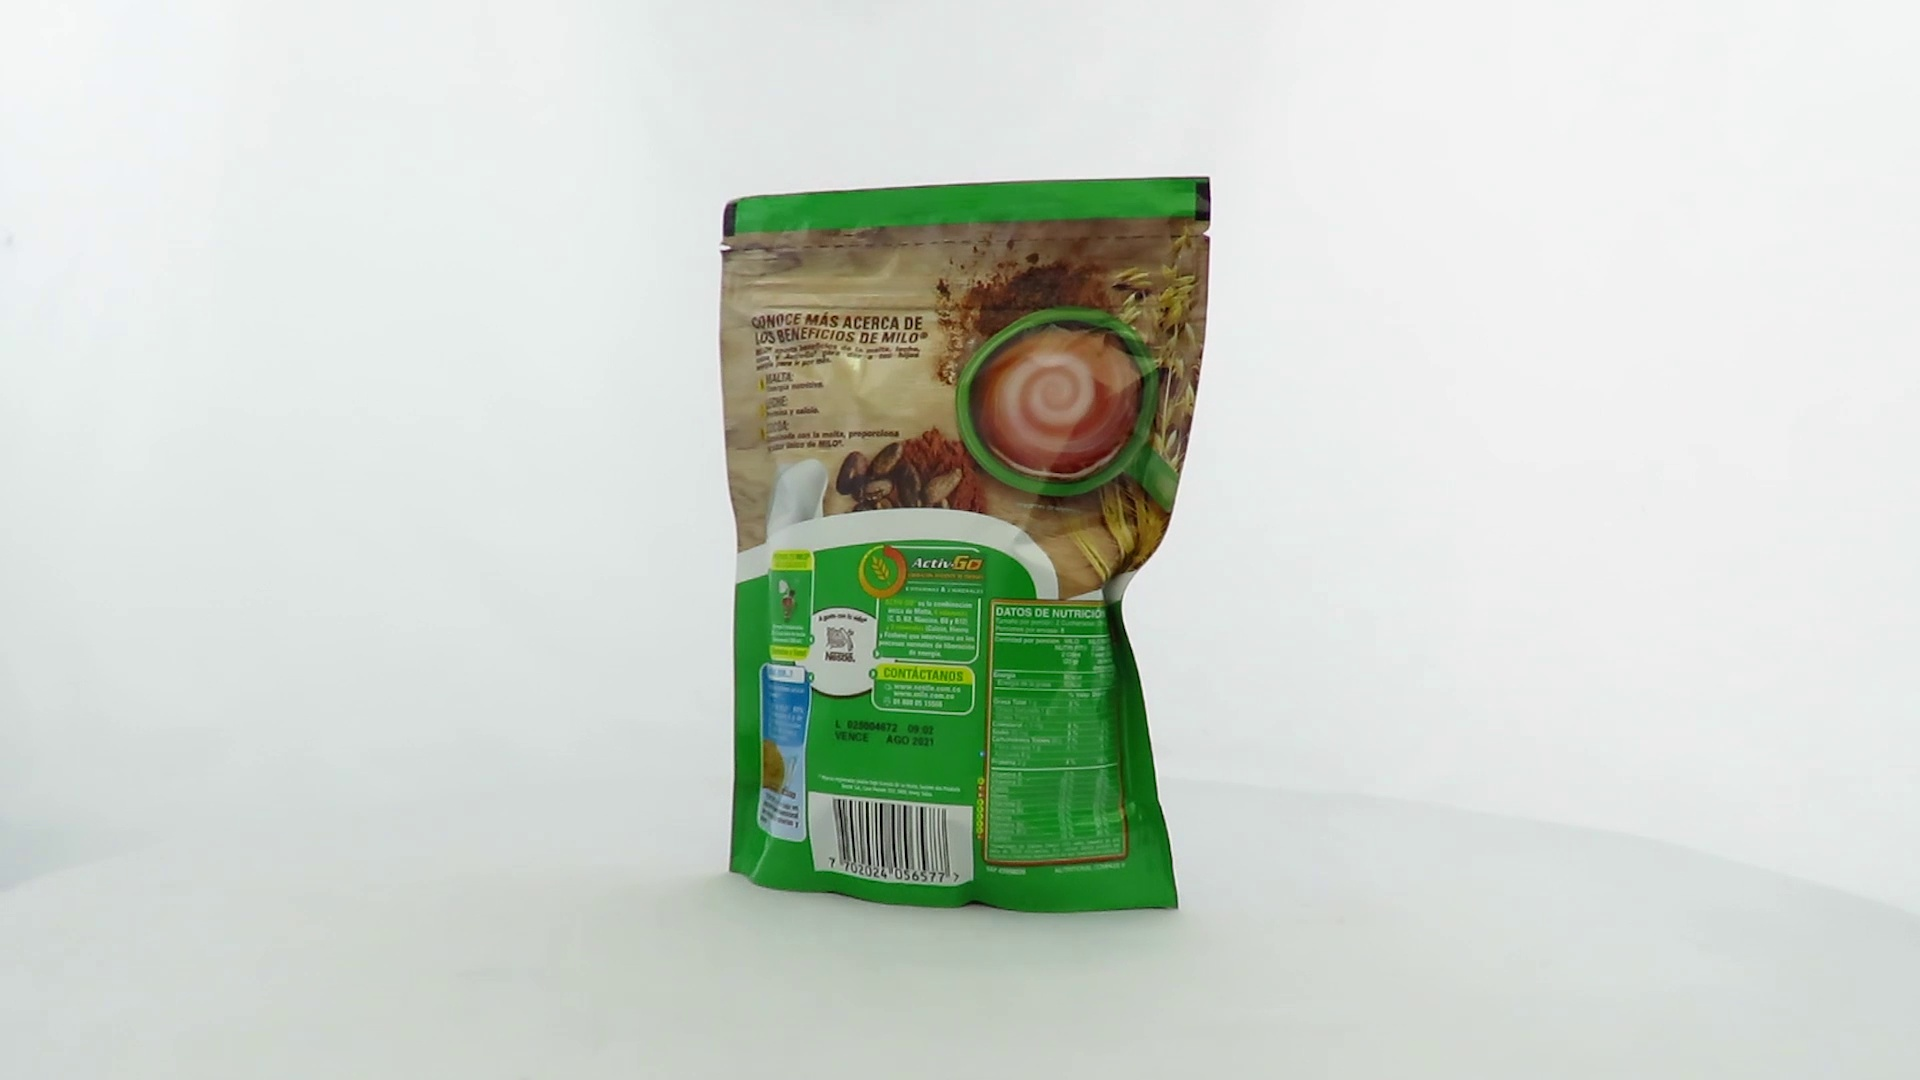COL0170205DYP20000: (713, 171, 1217, 920)
